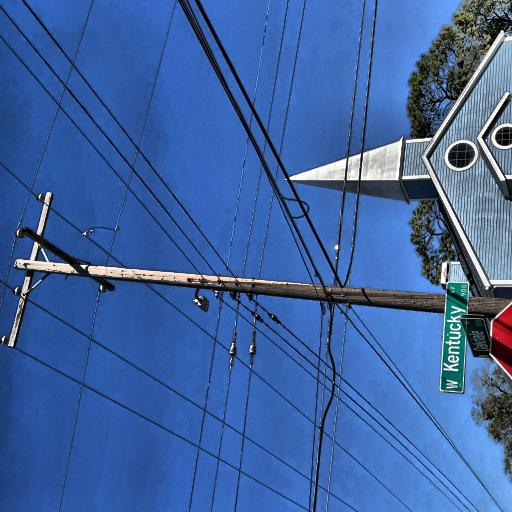insulator: (175, 152, 185, 164), (144, 128, 152, 142), (95, 222, 104, 232), (92, 127, 100, 138), (49, 113, 56, 123)
pole: (48, 122, 132, 512)
